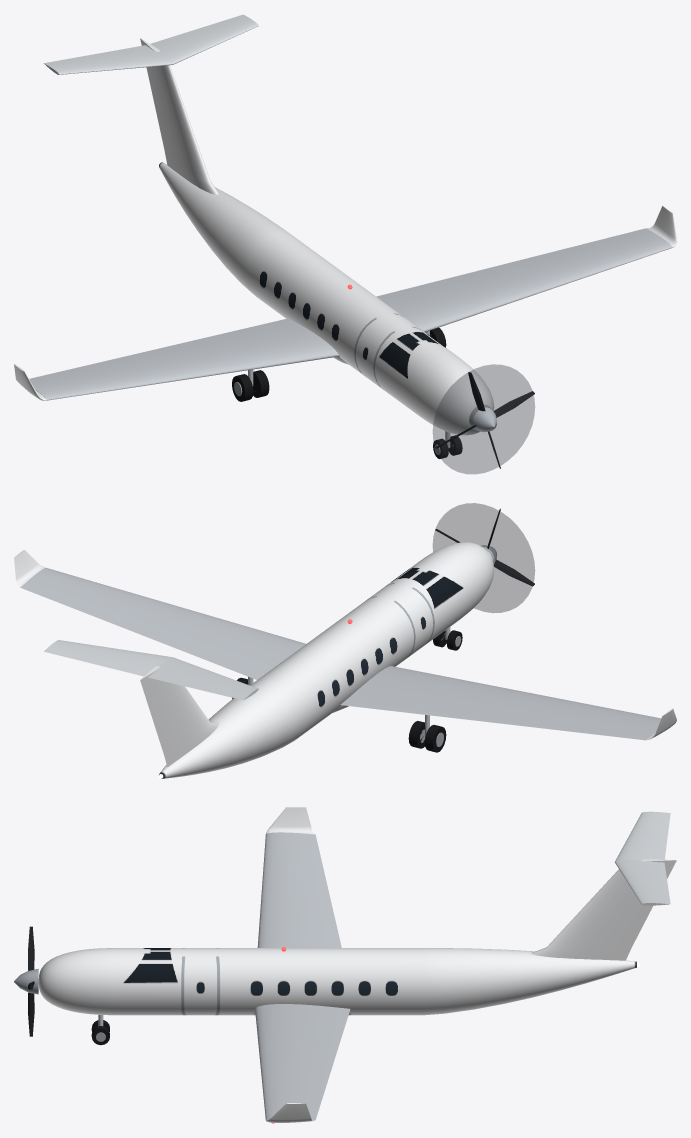
3 renders of one model, top to bottom at view 1: azimuth 30°, elevation 25°; view 2: azimuth 150°, elevation 25°; view 3: azimuth 270°, elevation 25°, orthographic. The views are drawn at different scales.
Visible parts, largest first — view 1: body, gear; view 2: body, gear; view 3: body.
Boxes of the visible parts, x1,y1,x2,y2 form: body: (14,14,676,474); gear: (232,327,462,458); body: (14,503,676,778); gear: (232,627,462,752); body: (14,807,676,1123).
Size of the model in its own units: 16.91 by 4.87 by 15.96.
Materials: 14 (1 with a texture image).
